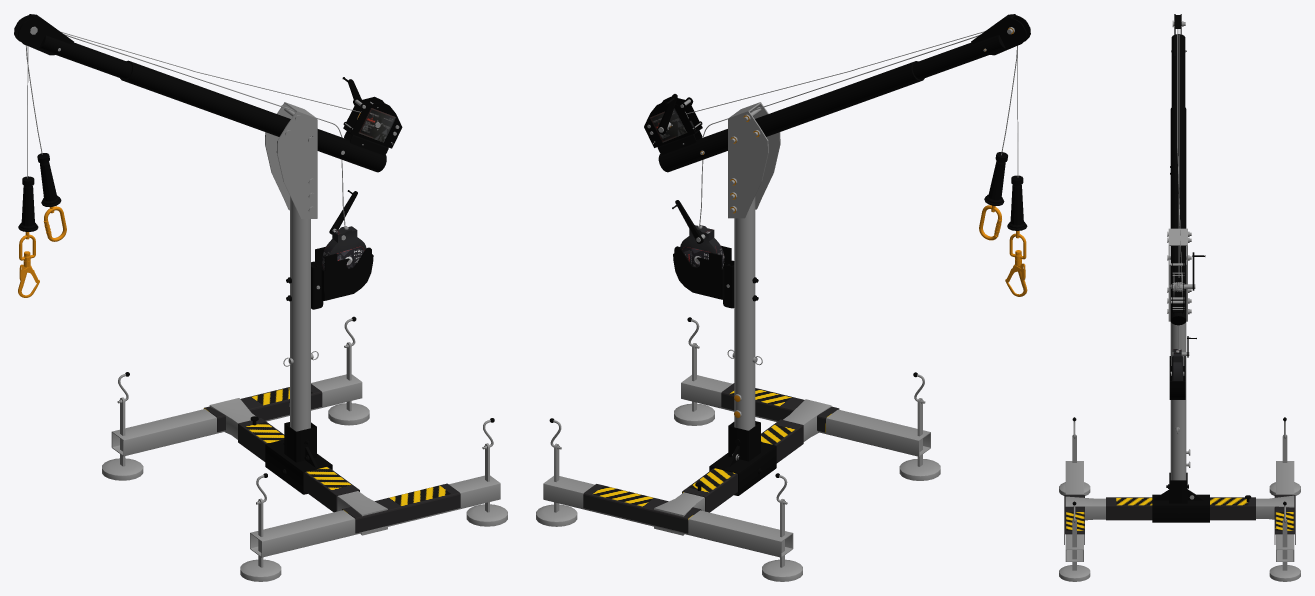
The model's file is SM_Davit_arm.FBX.
3 views of the same model, side by side, from view 1: azimuth 30°, elevation 25°; view 2: azimuth 150°, elevation 25°; view 3: azimuth 270°, elevation 25° (orthographic). The views are drawn at different scales.
Visible parts, largest first — view 1: SM_Davit_arm, SM_Davit_arm_Retractable, SM_Davit_arm _Winch, SM_Davit_arm_winch_hook, SM_Davit_arm_Retractable_Hook; view 2: SM_Davit_arm, SM_Davit_arm_Retractable, SM_Davit_arm _Winch, SM_Davit_arm_winch_hook, SM_Davit_arm_Retractable_Hook; view 3: SM_Davit_arm, SM_Davit_arm_Retractable, SM_Davit_arm _Winch.
Boxes of the visible parts, bbox=[...] form: SM_Davit_arm: bbox=[14, 14, 507, 581]; SM_Davit_arm_Retractable: bbox=[25, 34, 373, 309]; SM_Davit_arm _Winch: bbox=[27, 32, 402, 178]; SM_Davit_arm_winch_hook: bbox=[18, 176, 39, 297]; SM_Davit_arm_Retractable_Hook: bbox=[37, 153, 66, 241]; SM_Davit_arm: bbox=[536, 14, 1030, 581]; SM_Davit_arm_Retractable: bbox=[672, 35, 1017, 308]; SM_Davit_arm _Winch: bbox=[644, 31, 1018, 177]; SM_Davit_arm_winch_hook: bbox=[1005, 175, 1027, 296]; SM_Davit_arm_Retractable_Hook: bbox=[979, 152, 1007, 240]; SM_Davit_arm: bbox=[1059, 14, 1300, 581]; SM_Davit_arm_Retractable: bbox=[1169, 29, 1196, 399]; SM_Davit_arm _Winch: bbox=[1171, 29, 1205, 313].
Bounding box in the file's own units: 1605 × 1992 × 1049.
Materials: 6 (3 with a texture image).
